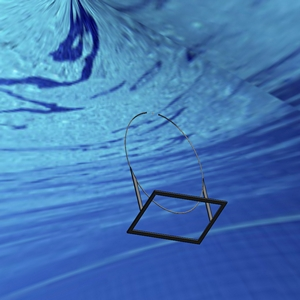circle: (123, 110, 226, 247)
